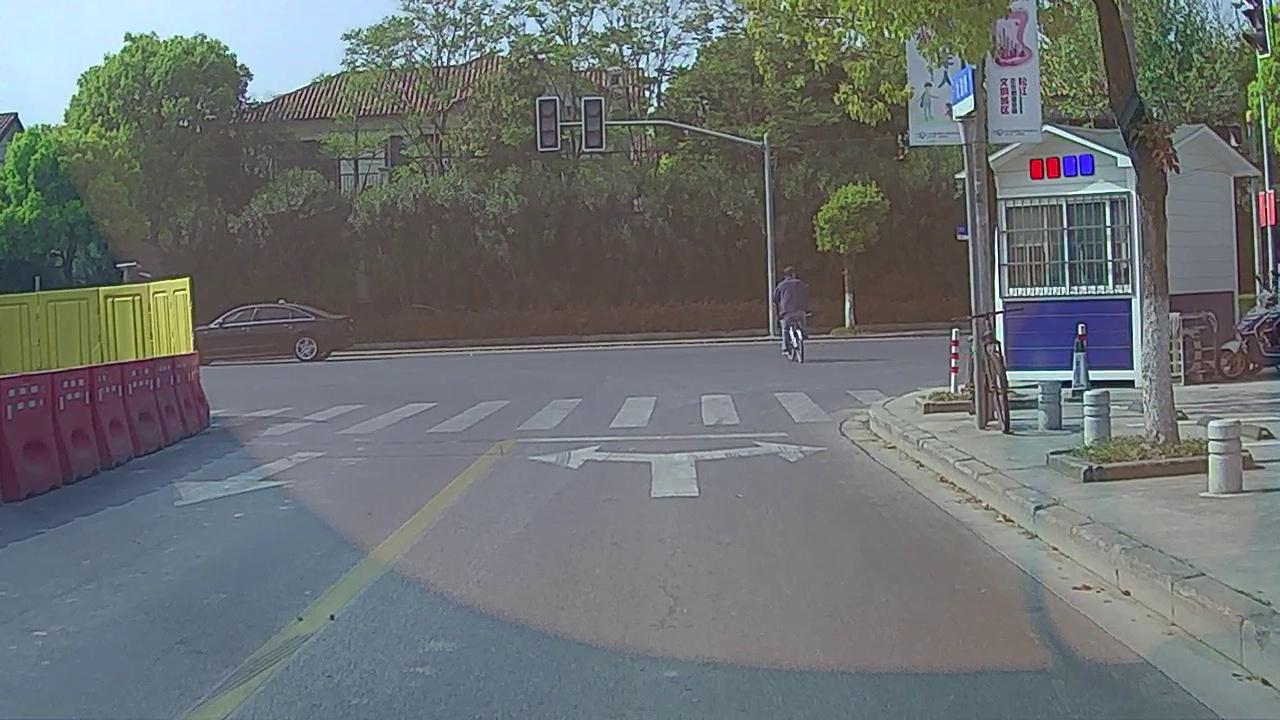traffic_light: (538, 97, 559, 148), (583, 98, 604, 149)
